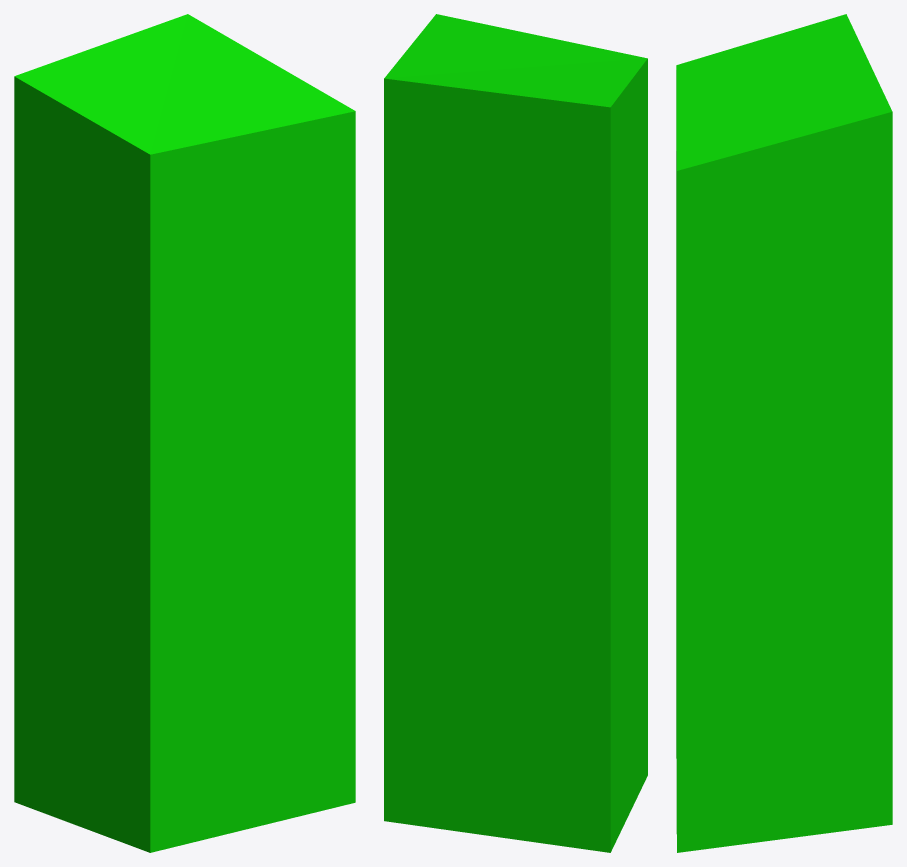
3 views of the same model, side by side, from view 1: azimuth 30°, elevation 25°; view 2: azimuth 150°, elevation 25°; view 3: azimuth 270°, elevation 25° (orthographic). The views are drawn at different scales.
Visible parts, largest first — view 1: Plane.011; view 2: Plane.011; view 3: Plane.011.
Part boxes in pixels (x1,y1,x2,y2): Plane.011: [14, 14, 355, 852]; Plane.011: [384, 14, 647, 852]; Plane.011: [676, 14, 892, 852].
Size of the model in its own units: 400 by 1085 by 297.
